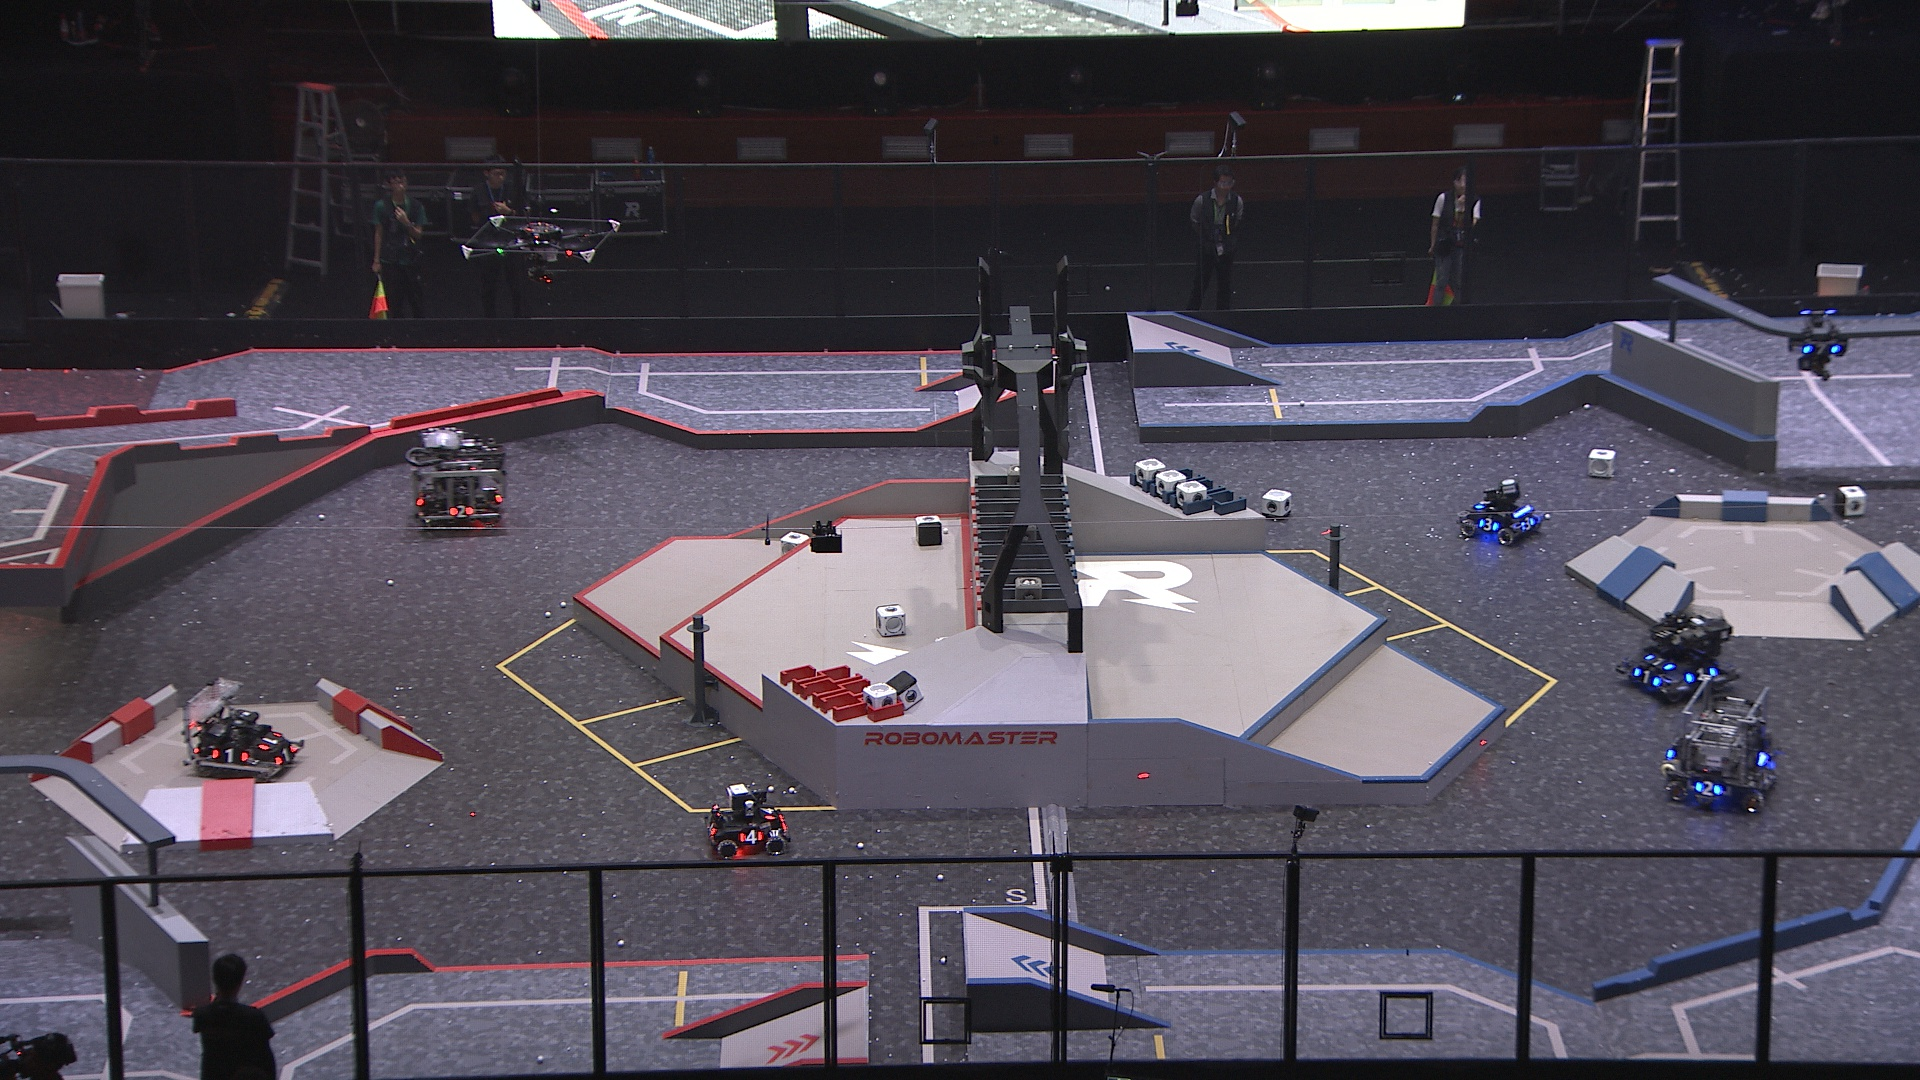armor: (210, 745, 253, 767), (1799, 338, 1841, 360), (255, 727, 286, 754), (1629, 665, 1662, 688), (1643, 651, 1677, 674), (444, 501, 475, 522), (1692, 779, 1724, 799), (276, 742, 301, 766), (737, 825, 764, 847), (1687, 665, 1714, 684), (1476, 517, 1501, 534), (764, 802, 781, 825), (1518, 513, 1536, 531), (703, 818, 717, 840), (1474, 495, 1494, 510)
car: (1660, 675, 1783, 818), (182, 678, 305, 787), (400, 422, 510, 541), (1613, 603, 1741, 703), (702, 777, 793, 864), (1456, 476, 1543, 550)
watcher: (1784, 295, 1851, 384)
